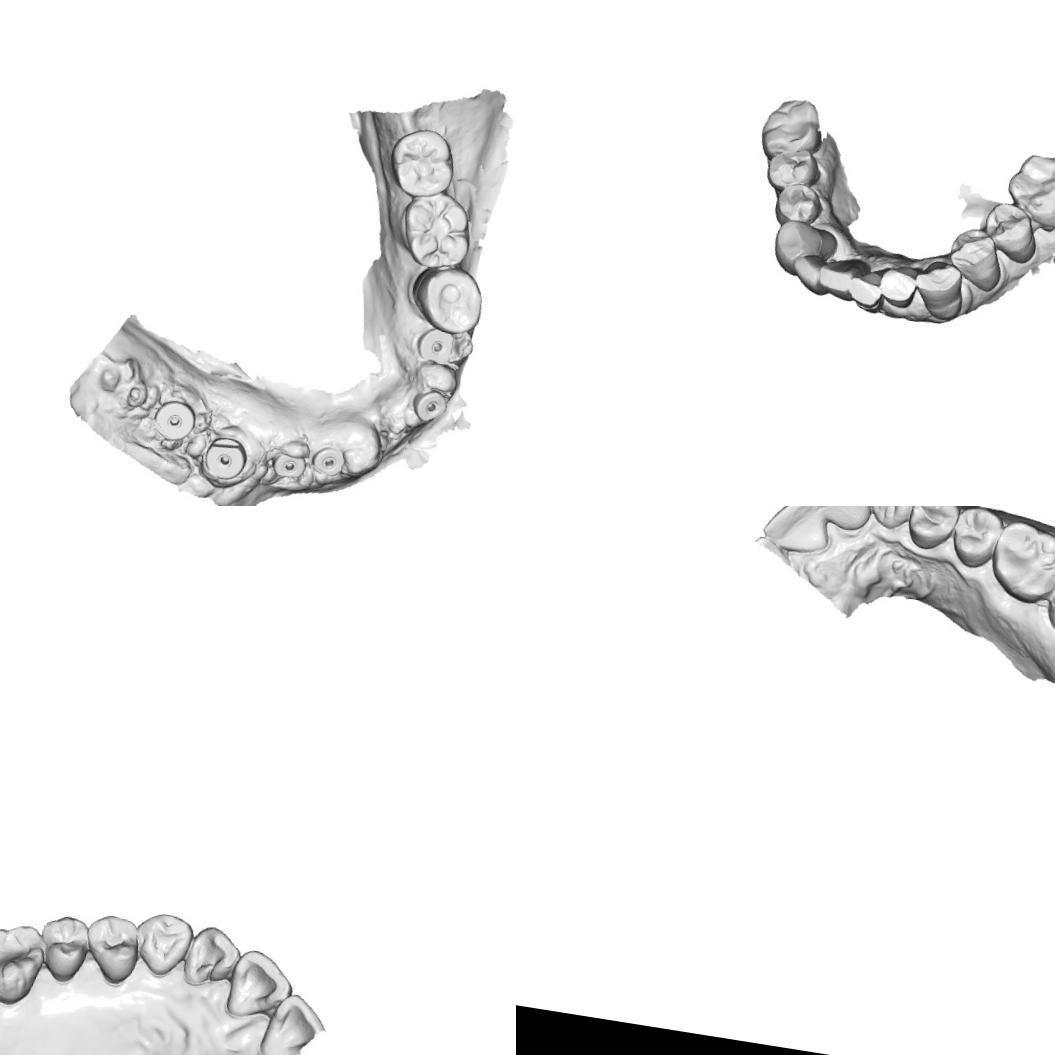canine: (132, 907, 198, 981), (766, 218, 831, 282), (909, 255, 968, 322), (865, 506, 919, 531)
implant: (200, 434, 250, 484), (152, 398, 200, 445), (309, 440, 347, 482), (415, 327, 454, 366), (411, 387, 450, 426), (272, 446, 308, 482)
incisor: (222, 945, 300, 1028), (178, 921, 246, 996), (256, 987, 328, 1055), (756, 506, 837, 560), (816, 252, 868, 304), (875, 259, 919, 310), (844, 266, 888, 314), (807, 506, 875, 536), (787, 251, 830, 298)
molar: (395, 190, 478, 274), (985, 516, 1055, 608), (384, 122, 462, 200), (755, 91, 830, 166), (412, 262, 484, 337), (1000, 146, 1055, 238), (0, 913, 50, 1009)
premolar: (79, 910, 147, 988), (34, 910, 98, 986), (944, 224, 1008, 294), (946, 506, 1007, 573), (978, 199, 1040, 264), (760, 142, 824, 198), (768, 178, 828, 228), (903, 506, 962, 554)
